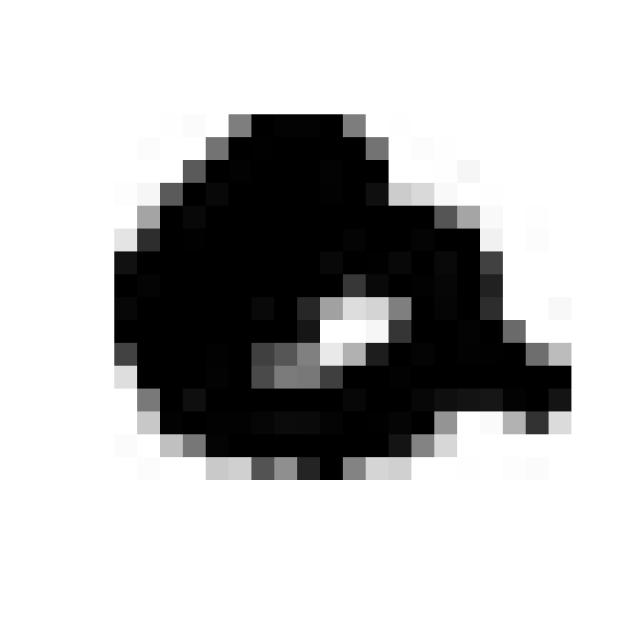0 -zero-: (91, 96, 583, 491)
